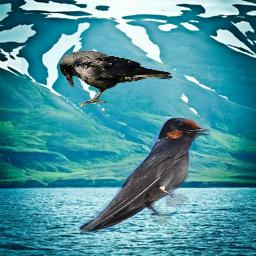Crow: (59, 50, 174, 108)
Swallow: (78, 117, 210, 233)
